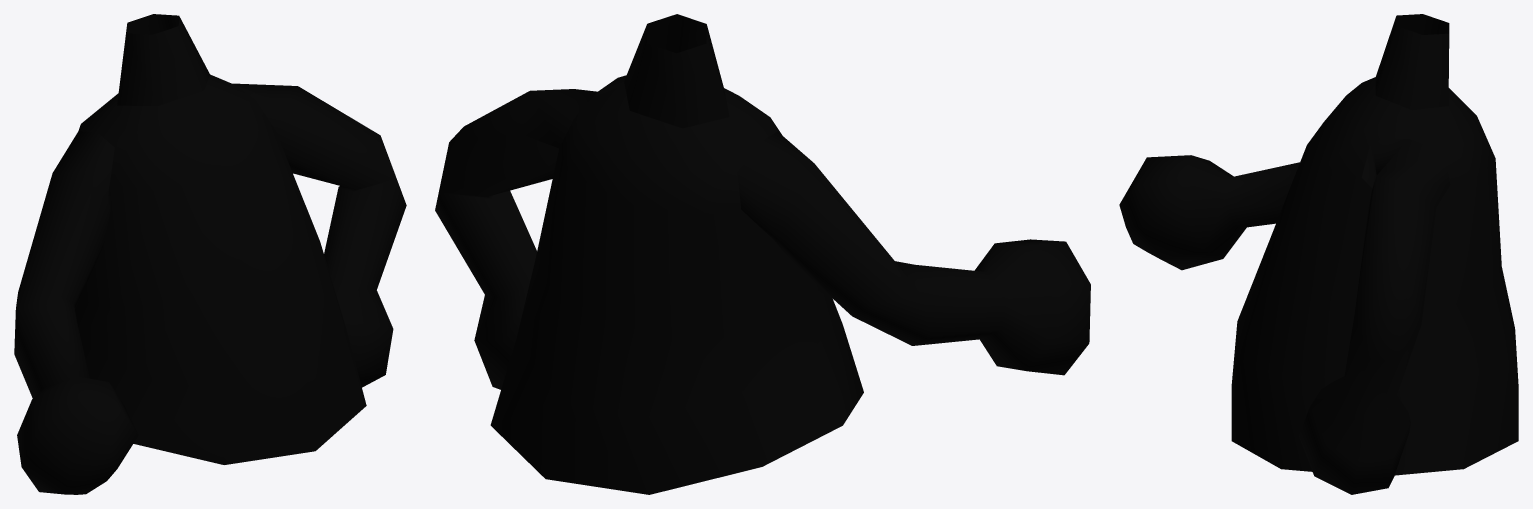
File: tops_None.dae
3 views of the same model, side by side, from view 1: azimuth 30°, elevation 25°; view 2: azimuth 150°, elevation 25°; view 3: azimuth 270°, elevation 25° (orthographic). The views are drawn at different scales.
Parts seen in each view (by area): view 1: tops_None; view 2: tops_None; view 3: tops_None.
Part boxes in pixels (bbox=[...]): tops_None: bbox=[14, 14, 406, 494]; tops_None: bbox=[435, 14, 1090, 494]; tops_None: bbox=[1119, 14, 1518, 494].
Size of the model in its own units: 21.71 by 16.96 by 15.52.
1 material, 1 textured.
